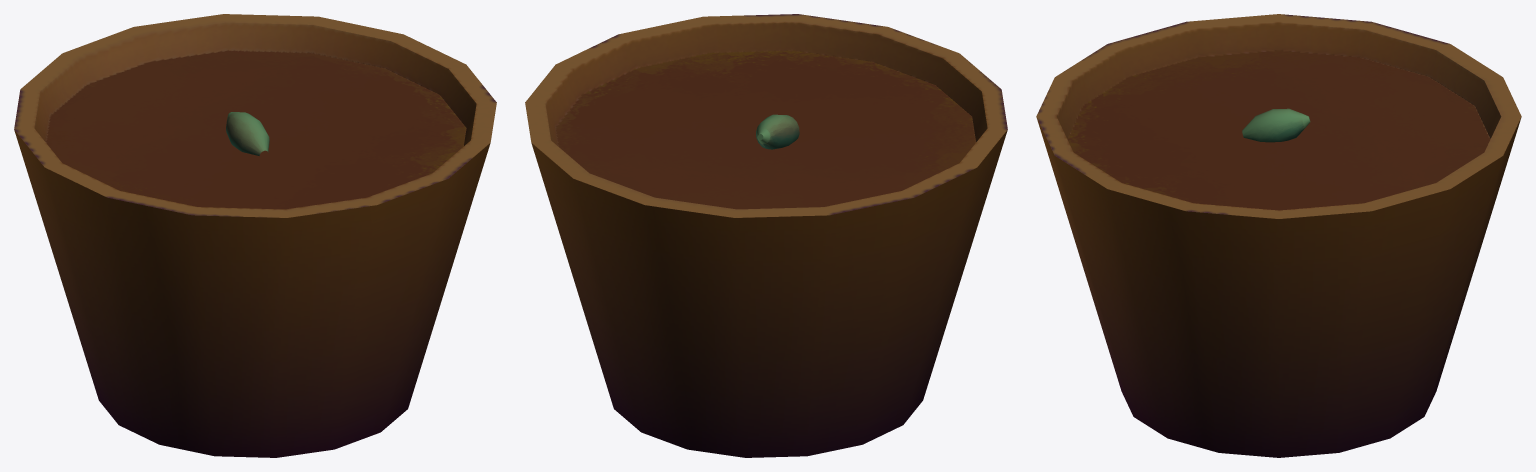
Rendered from Pot Biji yang biji.fbx.
3 views of the same model, side by side, from view 1: azimuth 30°, elevation 25°; view 2: azimuth 150°, elevation 25°; view 3: azimuth 270°, elevation 25° (orthographic).
Parts seen in each view (by area): view 1: Pot Biji Only; view 2: Pot Biji Only; view 3: Pot Biji Only.
Boxes of the visible parts, x1,y1,x2,y2 form: Pot Biji Only: (14, 14, 496, 457); Pot Biji Only: (525, 14, 1007, 457); Pot Biji Only: (1036, 14, 1521, 457).
Size of the model in its own units: 0.9739 by 0.6124 by 0.9739.
1 material, 1 textured.
